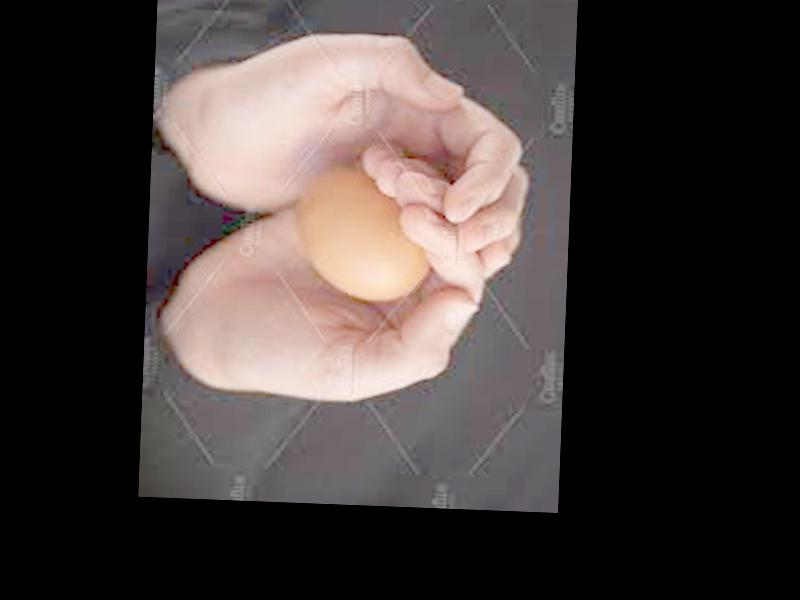Eggs: (293, 160, 429, 303)
